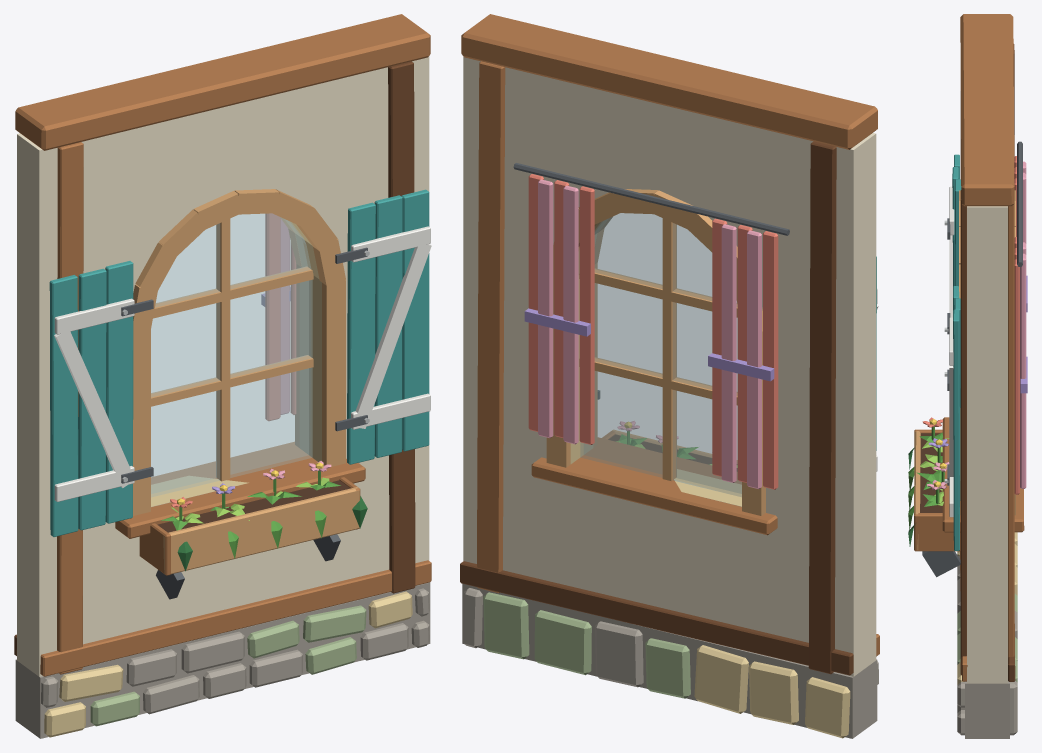
File: wall_arch_window.glb
3 renders of one model, left to right at view 1: azimuth 30°, elevation 25°; view 2: azimuth 150°, elevation 25°; view 3: azimuth 270°, elevation 25°, orthographic. The views are drawn at different scales.
Visible parts, largest first — view 1: Wall Arch Window; view 2: Wall Arch Window; view 3: Wall Arch Window.
Part boxes in pixels (bbox=[...]): Wall Arch Window: bbox=[14, 14, 431, 738]; Wall Arch Window: bbox=[460, 14, 879, 738]; Wall Arch Window: bbox=[908, 14, 1027, 738].
Size of the model in its own units: 2 by 3 by 0.5866.
Materials: 2 (1 with a texture image).
